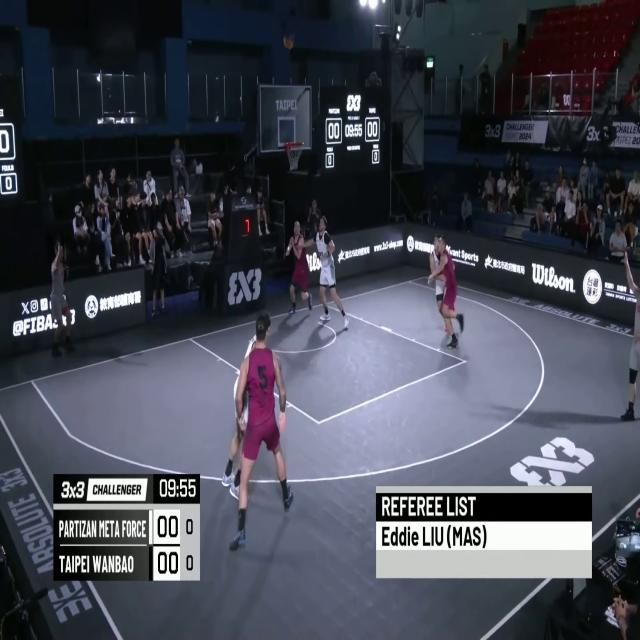ball: (282, 29, 296, 57)
hoop: (285, 139, 303, 175)
player: (230, 317, 289, 547), (219, 313, 274, 494), (428, 234, 464, 351), (311, 216, 347, 330), (429, 231, 459, 336), (285, 221, 312, 315)
